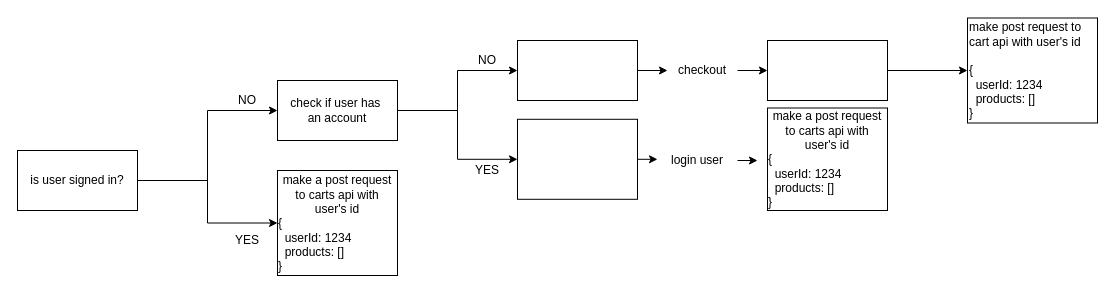
The diagram is 1115 pixels wide and 293 high, and some of its shapes have lost their labels. Each missing label, with the centre of its shape:
"login or store cart in local storage til user logs in" belongs at pixel 577 158.
"Signup - post request to users api" belongs at pixel 827 70.
"store cart in local storage" belongs at pixel 577 70.
